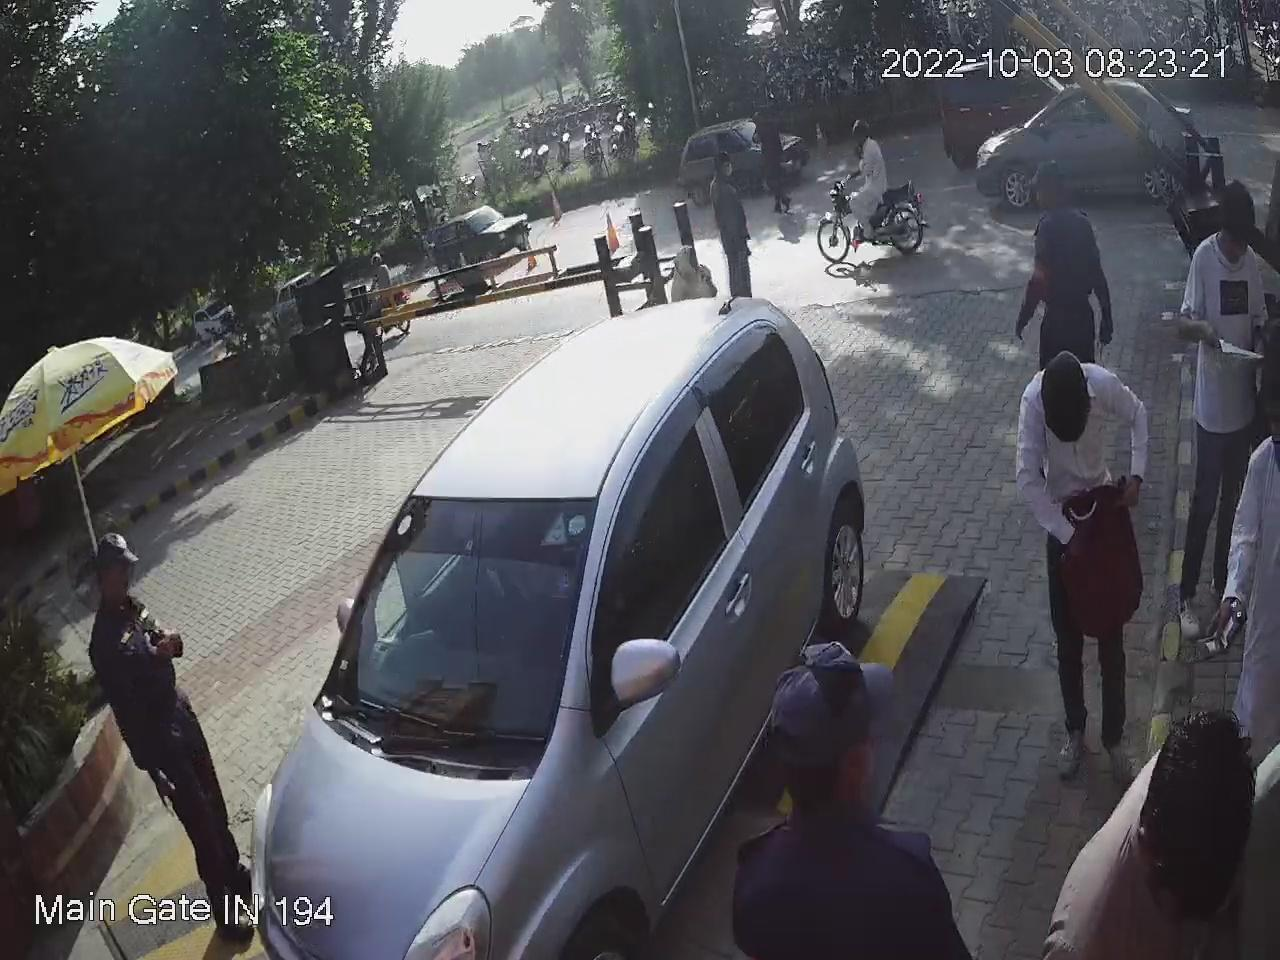windshield: (308, 487, 601, 772)
